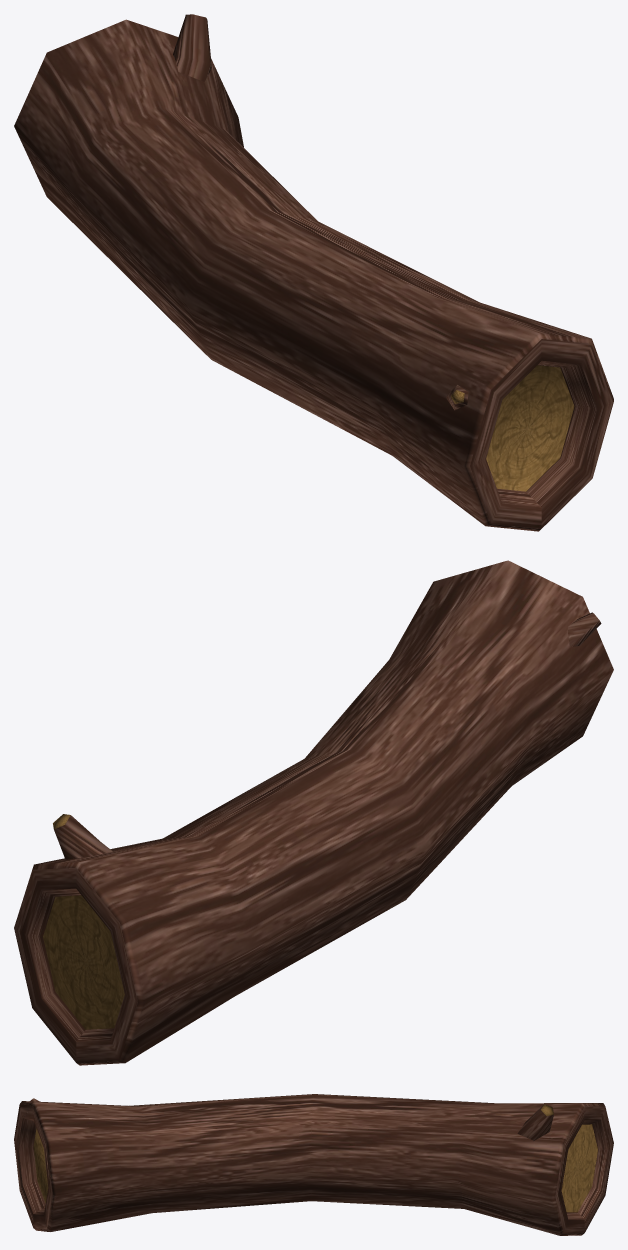
The model's file is Veg_Trunk_02_Art.fbx.
3 renders of one model, top to bottom at view 1: azimuth 30°, elevation 25°; view 2: azimuth 150°, elevation 25°; view 3: azimuth 270°, elevation 25°, orthographic. The views are drawn at different scales.
Parts seen in each view (by area): view 1: Veg_Trunk_02; view 2: Veg_Trunk_02; view 3: Veg_Trunk_02.
Boxes of the visible parts, x1=… form: Veg_Trunk_02: x1=14, y1=14, x2=613, y2=531; Veg_Trunk_02: x1=14, y1=560, x2=613, y2=1065; Veg_Trunk_02: x1=14, y1=1094, x2=613, y2=1235.
Size of what is drawn, in the model's own units: 122 by 111 by 422.
